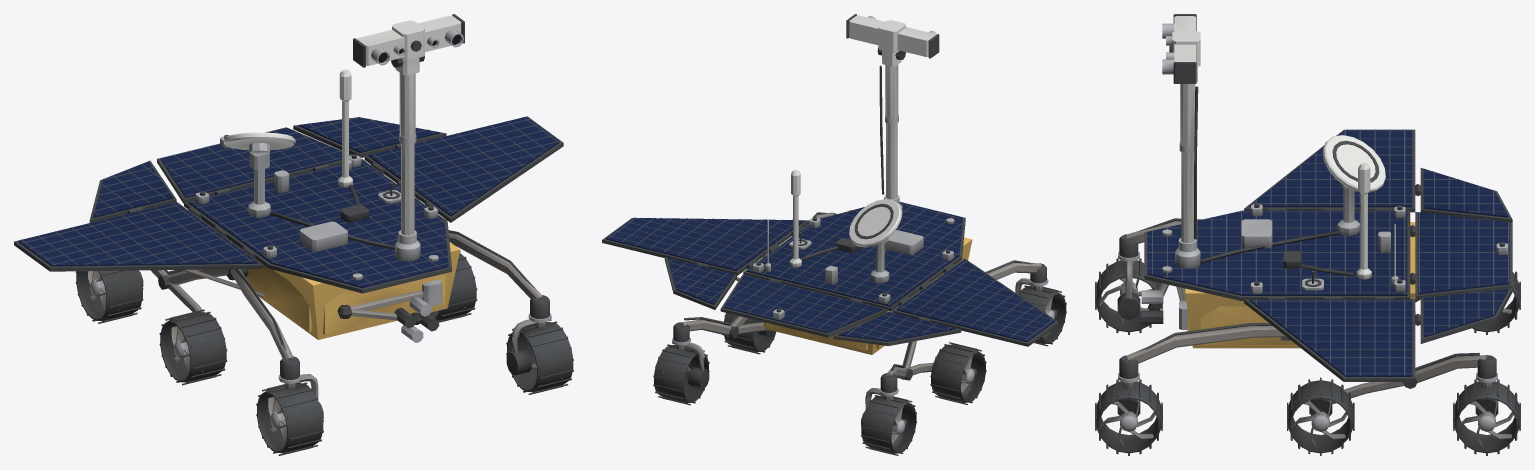
The model's file is mer.glb.
3 views of the same model, side by side, from view 1: azimuth 30°, elevation 25°; view 2: azimuth 150°, elevation 25°; view 3: azimuth 270°, elevation 25° (orthographic). The views are drawn at different scales.
Parts seen in each view (by area): view 1: mer_mesh, mast_mesh; view 2: mer_mesh, mast_mesh; view 3: mer_mesh, mast_mesh.
Part boxes in pixels (x1,y1,x2,y2): mer_mesh: [14, 69, 573, 455]; mast_mesh: [353, 14, 464, 261]; mer_mesh: [602, 169, 1066, 455]; mast_mesh: [846, 14, 939, 217]; mer_mesh: [1095, 129, 1520, 455]; mast_mesh: [1162, 14, 1200, 268].
Size of the model in its own units: 2.3 by 1.56 by 1.67.
